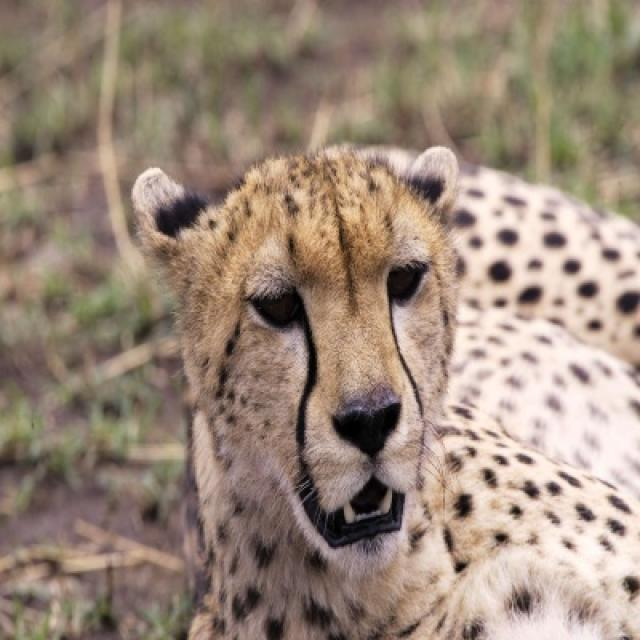Cheetah: (133, 144, 638, 638)
